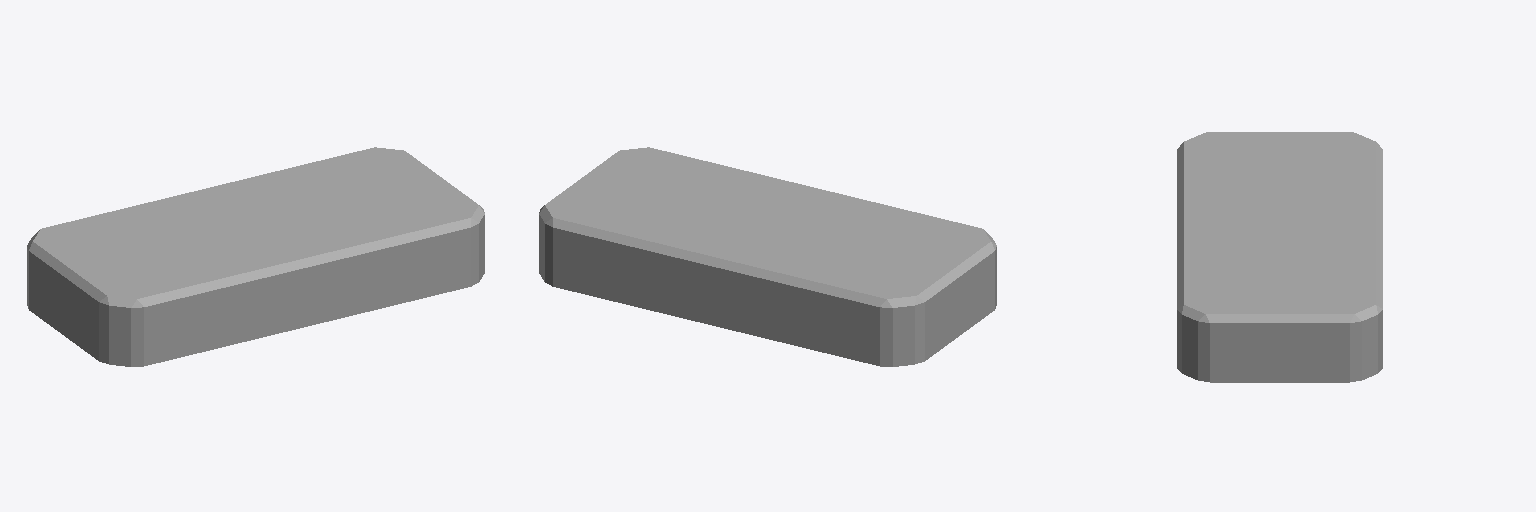
Rendered from KeyCapWide.obj.
3 renders of one model, left to right at view 1: azimuth 30°, elevation 25°; view 2: azimuth 150°, elevation 25°; view 3: azimuth 270°, elevation 25°, orthographic.
Visible parts, largest first — view 1: KeyCapWide; view 2: KeyCapWide; view 3: KeyCapWide.
Part boxes in pixels (left/top/right/bottom): KeyCapWide: left=27, top=147, right=484, bottom=366; KeyCapWide: left=539, top=147, right=996, bottom=366; KeyCapWide: left=1177, top=132, right=1382, bottom=382.
Size of the model in its own units: 2.15 by 0.35 by 1.